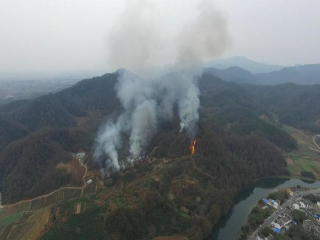smoke: (91, 8, 232, 175)
